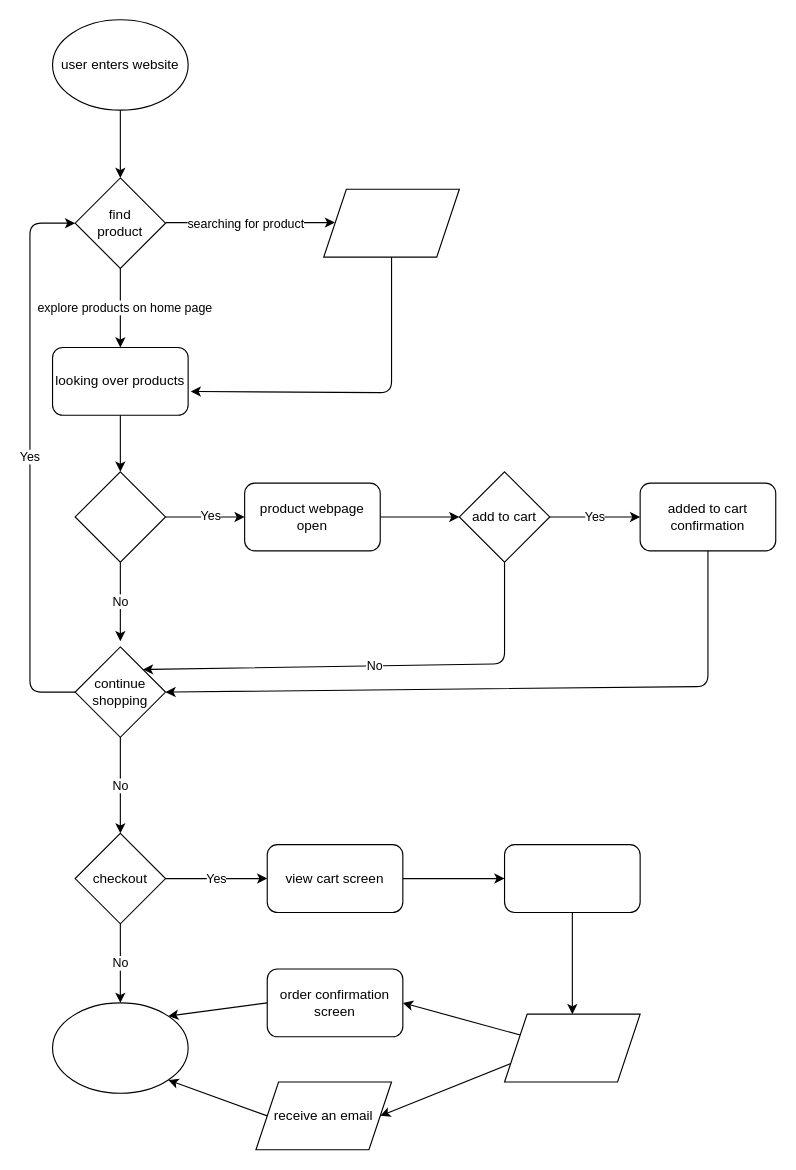
This 796x1170 diagram has some shape labels left out. The box of each missing label's shape, as (x1, y1, x2, y2) in pixels:
input of search: (323, 188, 459, 257)
input payment information: (503, 1013, 640, 1082)
leave website: (51, 1002, 188, 1093)
view payment screen: (503, 844, 640, 912)
view specific product: (74, 471, 166, 562)
